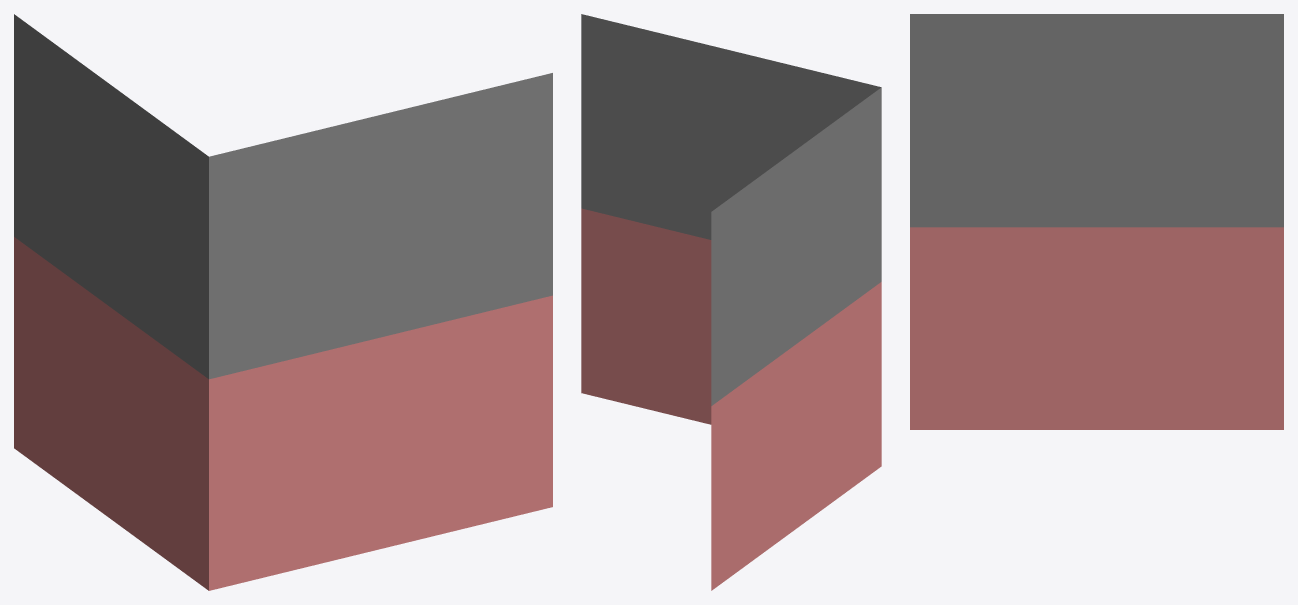
Rendered from S_Envi_Fyz_Building_89t.gltf.
The picture shows the model from 3 angles, left to right: view 1: azimuth 30°, elevation 25°; view 2: azimuth 150°, elevation 25°; view 3: azimuth 270°, elevation 25°; orthographic projection. The views are drawn at different scales.
Visible parts, largest first — view 1: S_Envi_Fyz_Building_89t; view 2: S_Envi_Fyz_Building_89t; view 3: S_Envi_Fyz_Building_89t.
Boxes of the visible parts, x1,y1,x2,y2 form: S_Envi_Fyz_Building_89t: (14,14,552,590); S_Envi_Fyz_Building_89t: (581,14,881,590); S_Envi_Fyz_Building_89t: (910,14,1283,429).
Bounding box in the file's own units: 11.17 × 13.48 × 10.97.
